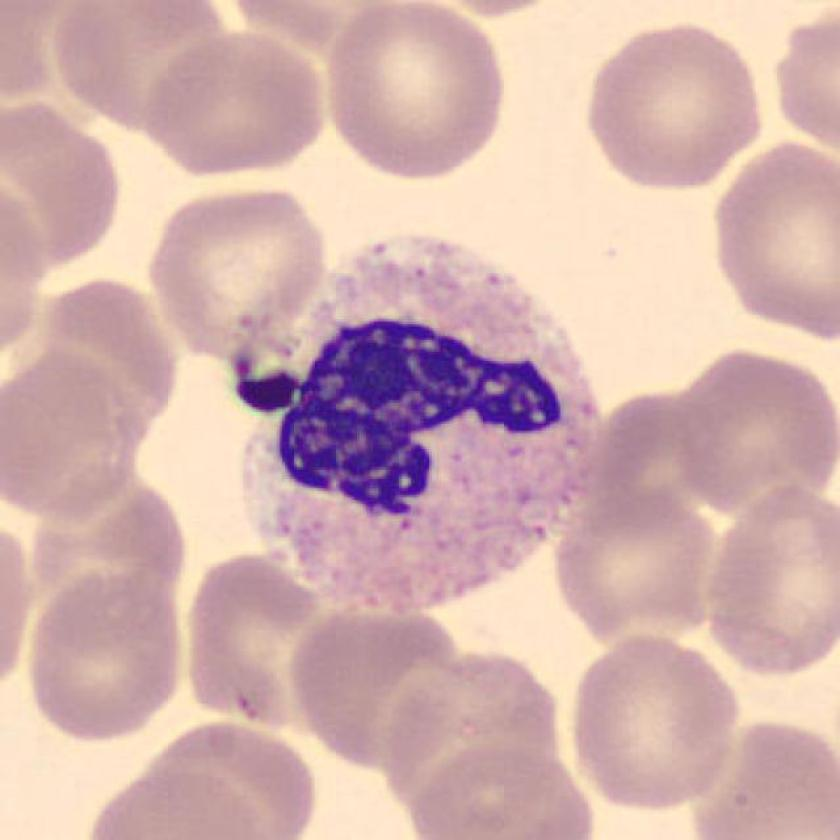neutrophil: (244, 231, 596, 609)
